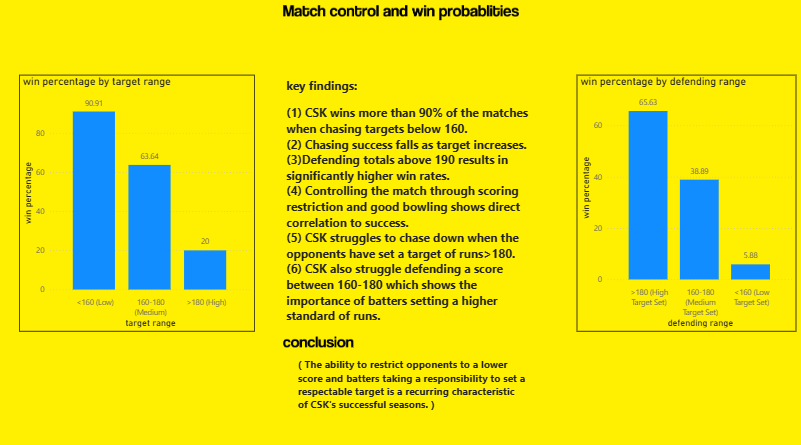

The page's visual inventory and layout, read from the dashboard file:
{"tool":"powerbi","page":{"name":"Page 6","canvas":[1280,720],"ordinal":5},"visuals":[{"type":"clusteredColumnChart","fields":{"Category":["5th slide full (3).target_difficulty_range"],"Y":["Sum(5th slide full (3).csk_chasing_win_pct)"]},"box":[35,121.7,373.3,406.7],"z":0},{"type":"clusteredColumnChart","fields":{"Category":["defending.target_difficulty_range"],"Y":["Sum(defending.csk_defending_win_pct)"]},"box":[918.3,121.7,348.3,406.7],"z":1000},{"type":"image","box":[453.3,0,373.3,46.7],"z":1001},{"type":"textbox","box":[453.3,121.7,408.3,470],"z":1002},{"type":"image","box":[453.3,498.3,111.7,93.3],"z":1003},{"type":"textbox","box":[488.3,571.7,373.3,111.7],"z":1004}]}

Visuals, with their boxes in screenshot pixels (x1, y1, x2, y2), scaled from the page's 1280x720 canvas onto the 801x445 screenshot:
clusteredColumnChart - 5th slide full (3).target_difficulty_range x Sum(5th slide full (3).csk_chasing_win_pct): l=22, t=75, r=256, b=327
clusteredColumnChart - defending.target_difficulty_range x Sum(defending.csk_defending_win_pct): l=575, t=75, r=793, b=327
image: l=284, t=0, r=517, b=29
textbox: l=284, t=75, r=539, b=366
image: l=284, t=308, r=354, b=366
textbox: l=306, t=353, r=539, b=422
